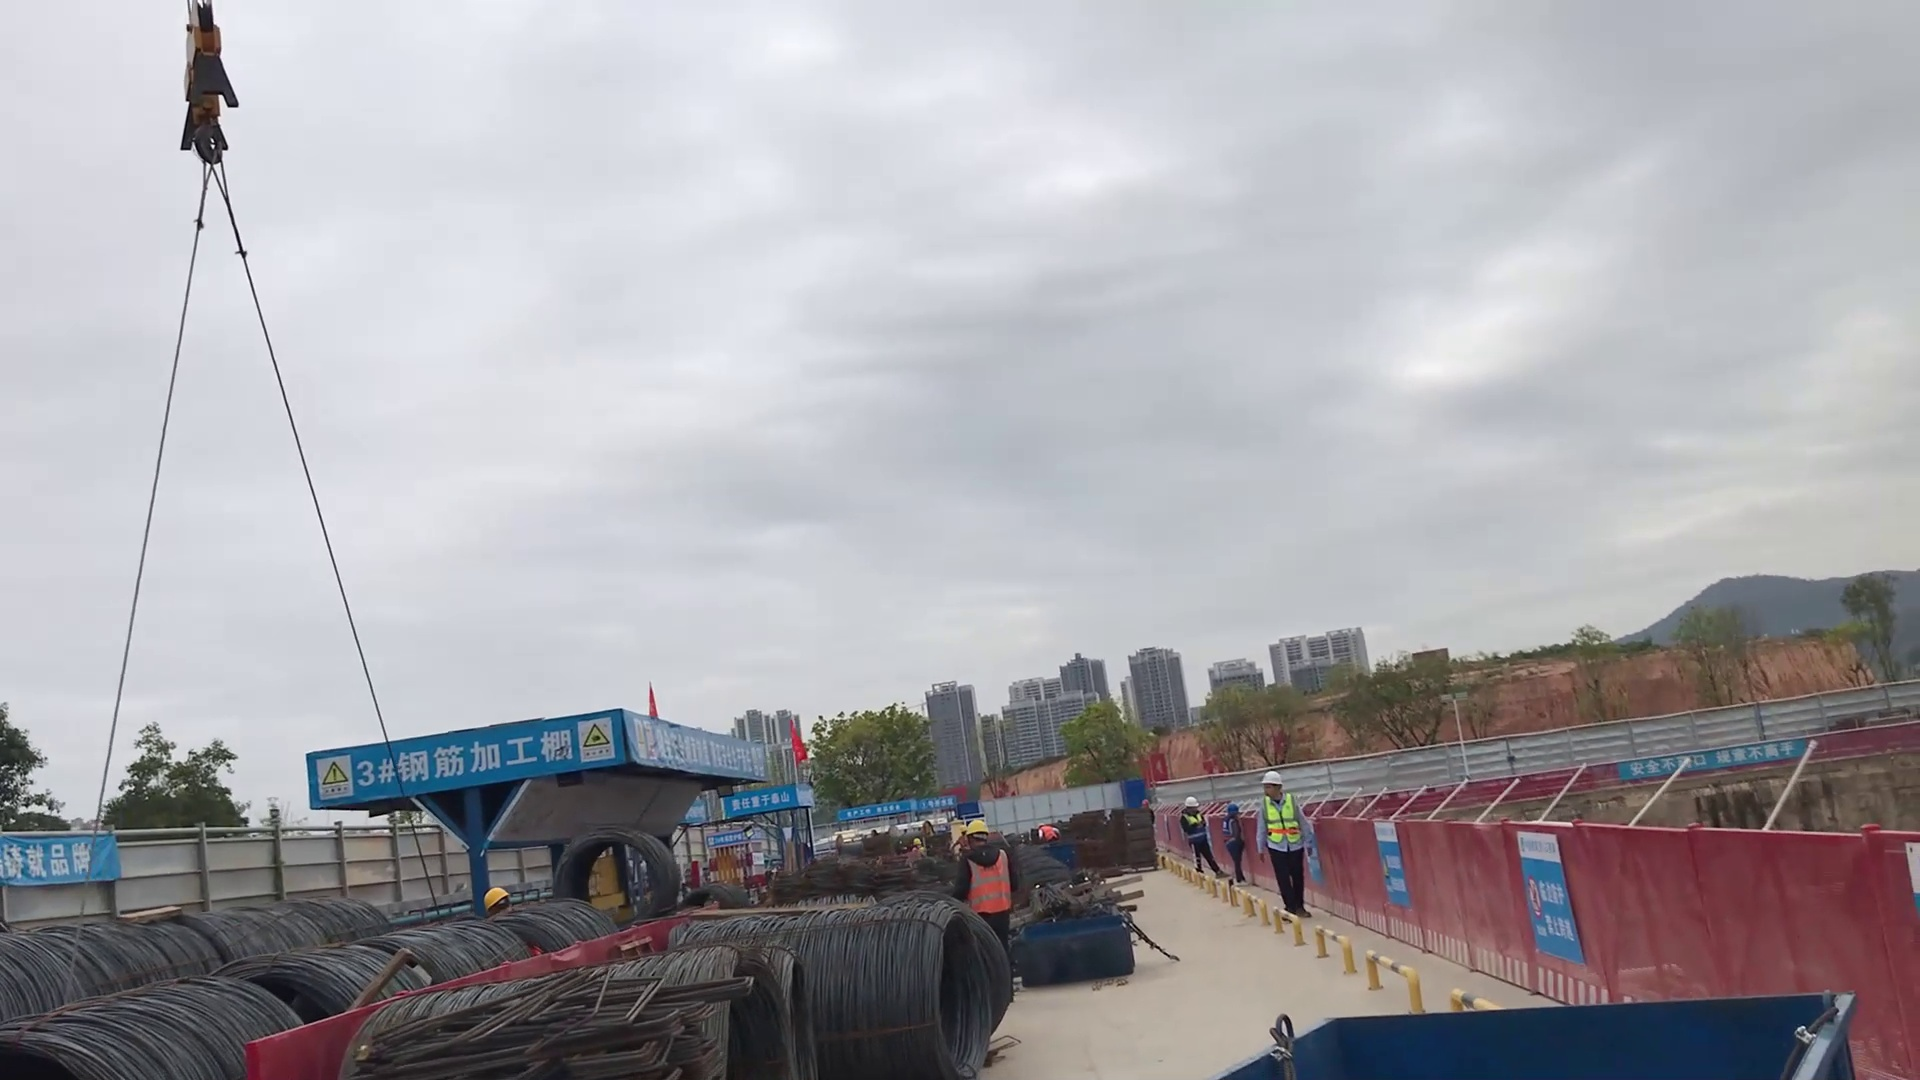fence: (1310, 790, 1920, 1065)
helmet: (479, 883, 510, 914), (963, 819, 991, 846), (1260, 769, 1283, 792), (1182, 795, 1200, 812), (1225, 802, 1240, 820)
hook: (169, 1, 253, 171)
hopper: (1200, 983, 1868, 1080), (1017, 914, 1141, 997)
person: (1255, 767, 1327, 924), (950, 811, 1019, 967), (1175, 793, 1222, 882), (1221, 799, 1246, 887), (475, 880, 520, 924), (1030, 812, 1063, 849)
slogan: (1615, 734, 1817, 787), (1, 825, 124, 888), (726, 782, 803, 817)
vest: (960, 848, 1013, 924), (1262, 794, 1300, 844), (1183, 813, 1211, 848), (1037, 826, 1059, 840)
